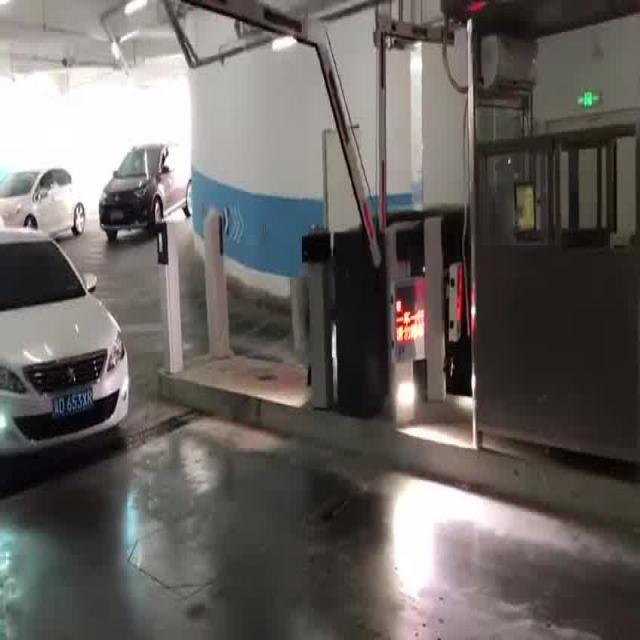CarIn: (0, 213, 152, 544), (94, 124, 201, 241)
GateOpened: (171, 1, 378, 280), (364, 1, 472, 271)
